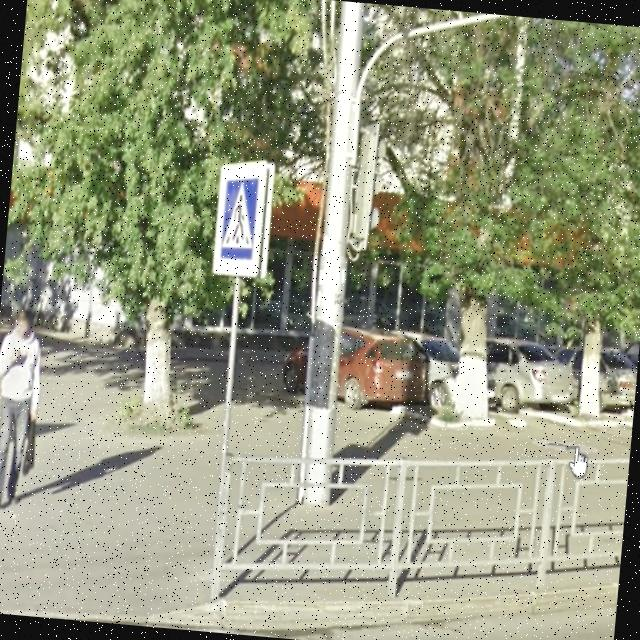Przejscie dla pieszych: (208, 156, 270, 282)
